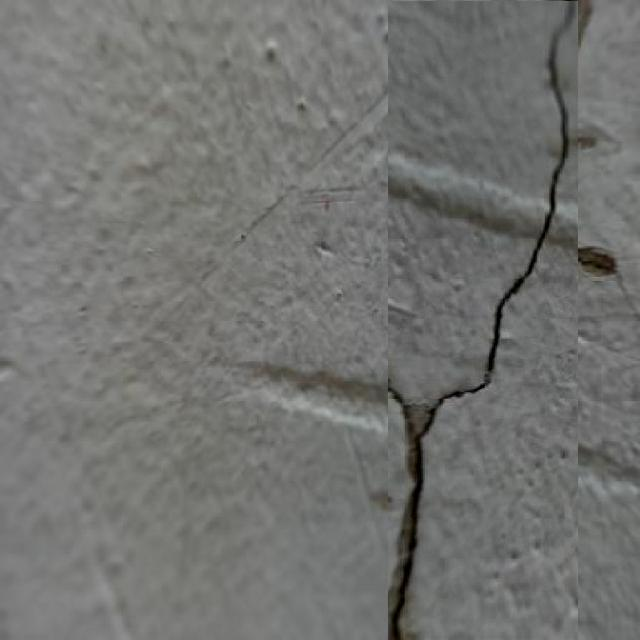Crack: (383, 0, 584, 637)
